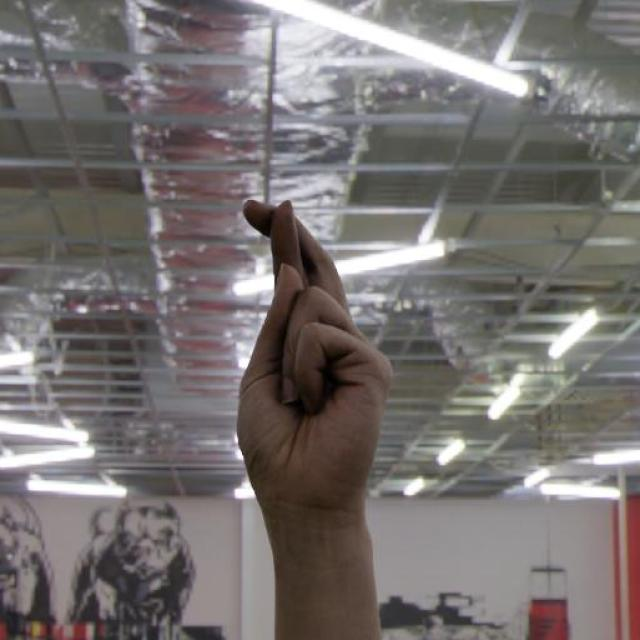R: (226, 193, 398, 524)
